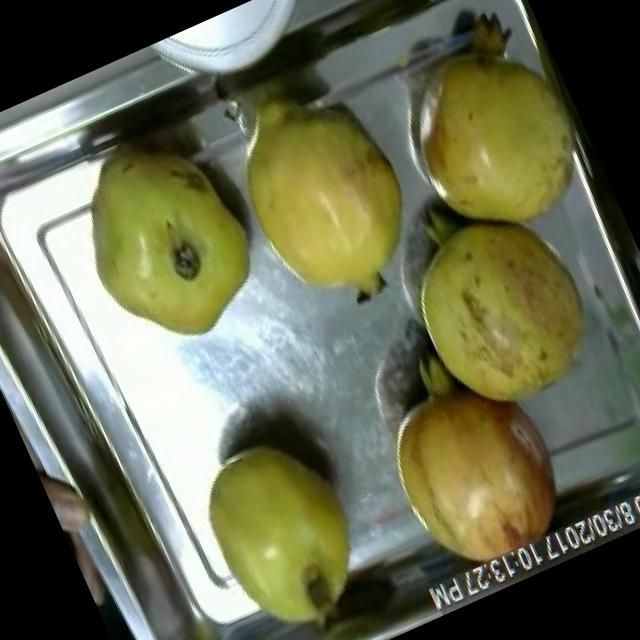fruit: (207, 66, 454, 344), (367, 0, 616, 274), (46, 108, 292, 384), (378, 176, 625, 438), (359, 342, 596, 604), (173, 407, 398, 640)
